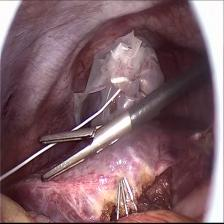Grasper: (38, 125, 111, 183)
Specimen Bag: (68, 25, 172, 126)
